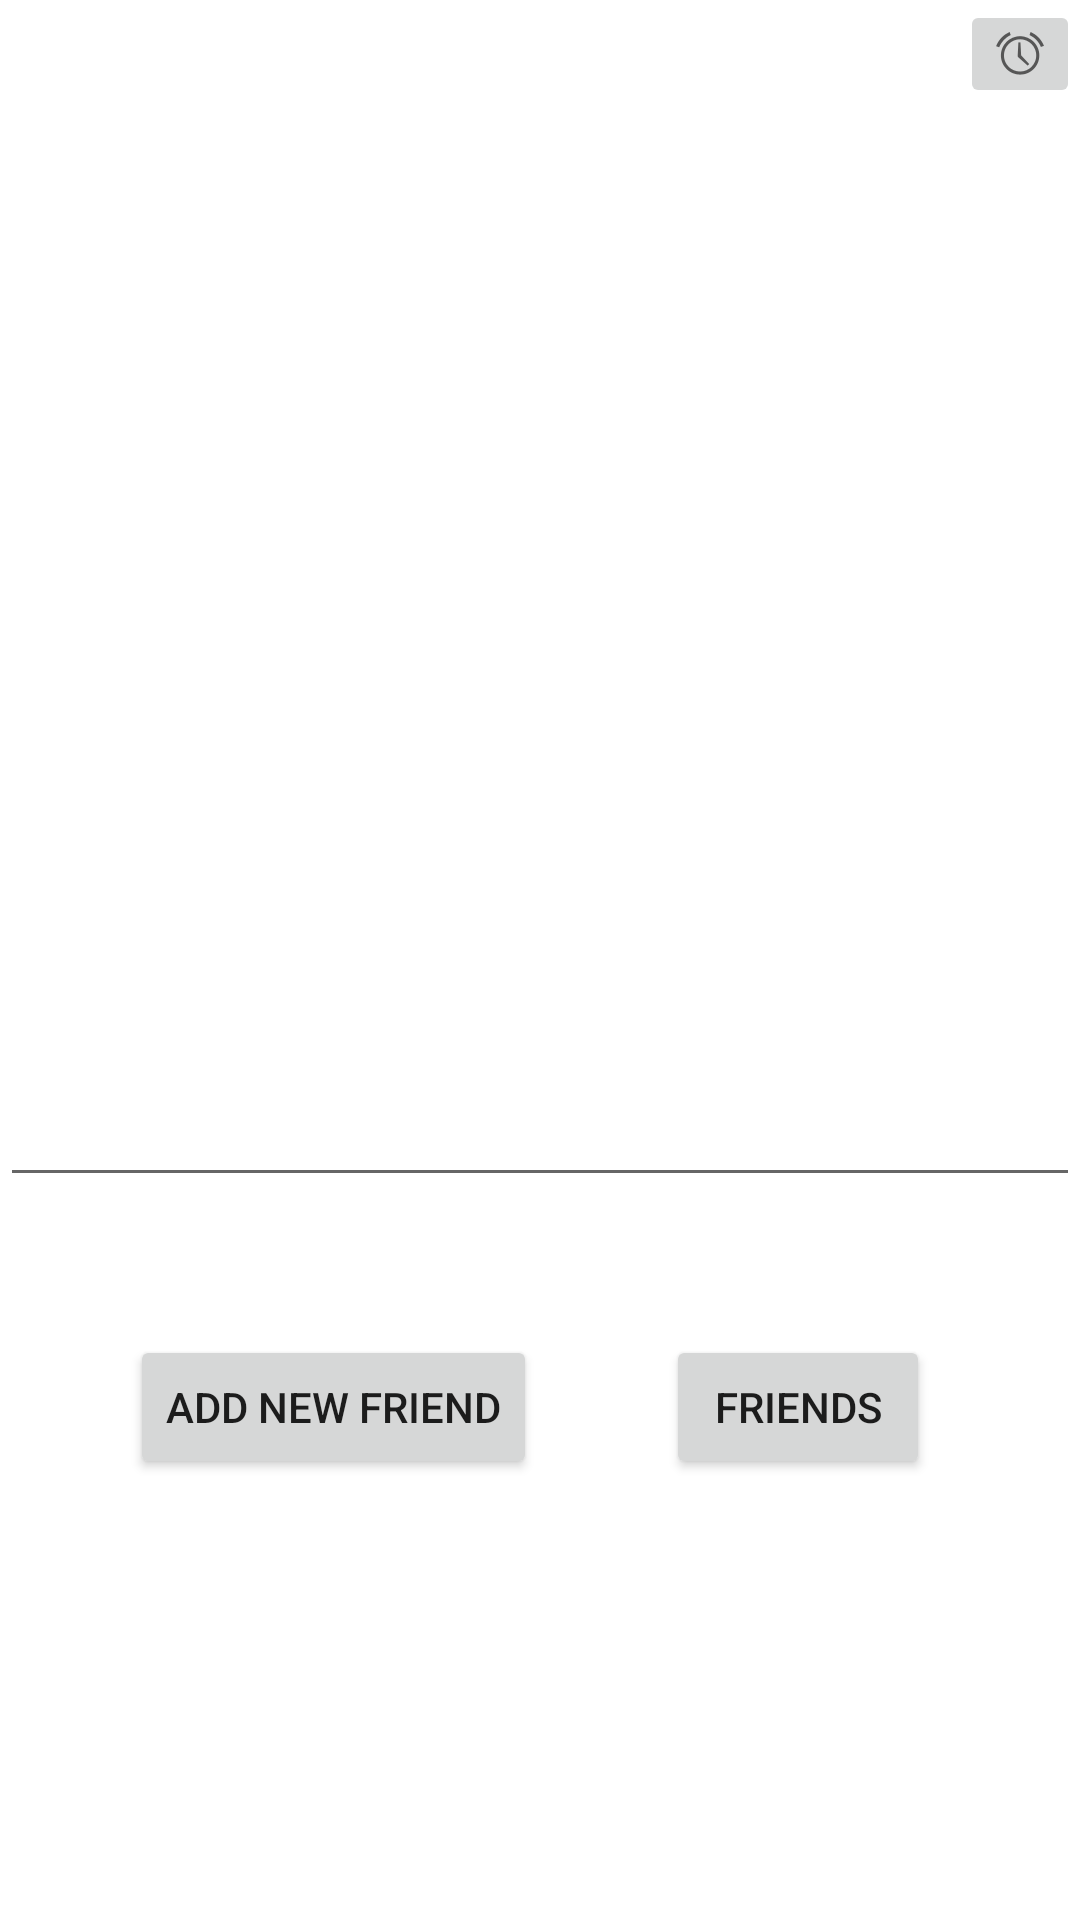

Where icons sit on this 1080px×1920px app screen, as (x1, y1, x2, y2):
lock idle alarm: (972, 18, 1068, 90)
